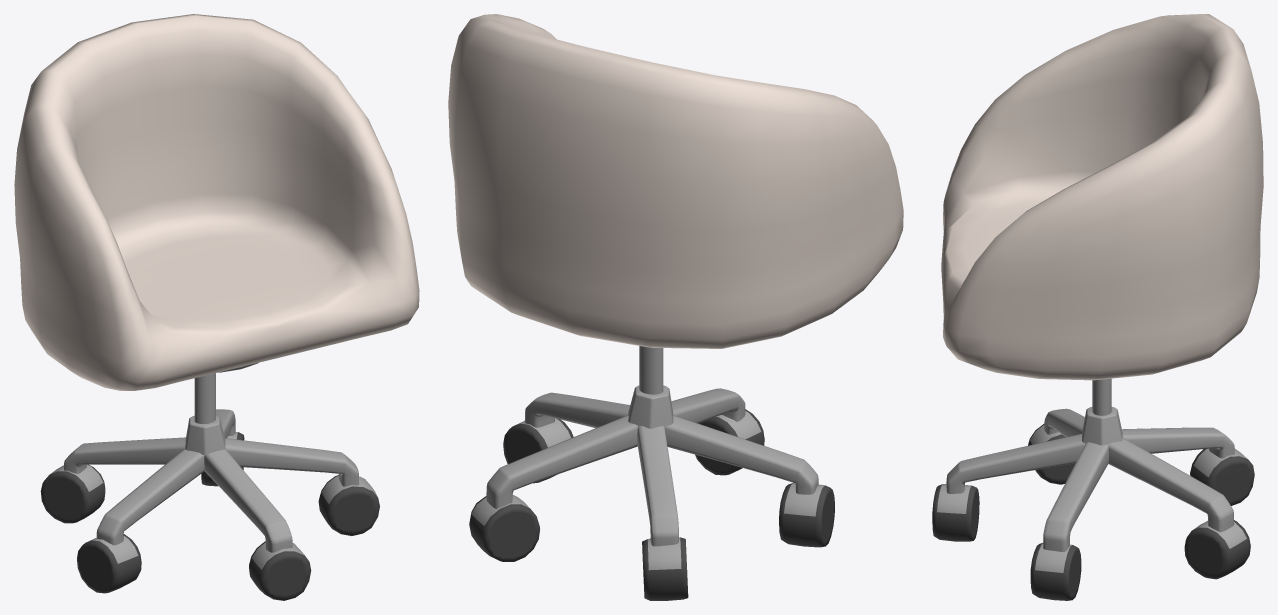
File: chair7.glb
3 views of the same model, side by side, from view 1: azimuth 30°, elevation 25°; view 2: azimuth 150°, elevation 25°; view 3: azimuth 270°, elevation 25° (orthographic). The views are drawn at different scales.
Visible parts, largest first — view 1: SM_Chair_8; view 2: SM_Chair_8; view 3: SM_Chair_8.
Boxes of the visible parts, x1,y1,x2,y2 form: SM_Chair_8: (14,14,419,600); SM_Chair_8: (448,14,903,600); SM_Chair_8: (932,14,1263,600).
Size of the model in its own units: 0.8196 by 1.14 by 0.7076.
1 material, 1 textured.
